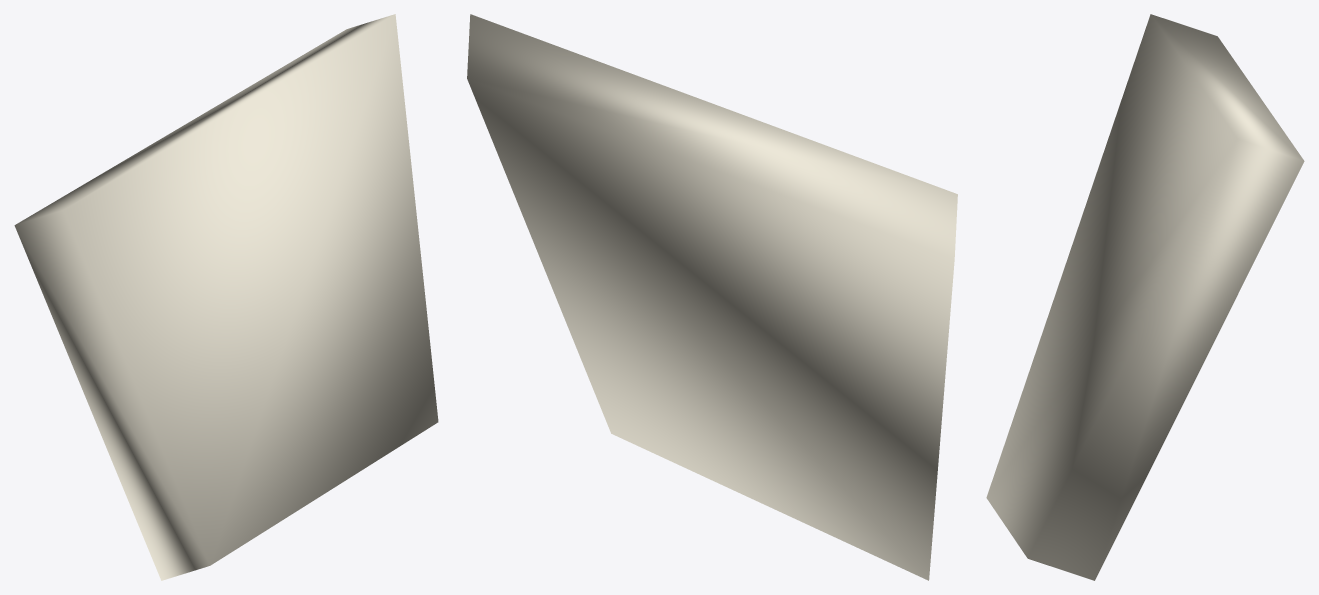
3 renders of one model, left to right at view 1: azimuth 30°, elevation 25°; view 2: azimuth 150°, elevation 25°; view 3: azimuth 270°, elevation 25°, orthographic. The views are drawn at different scales.
Parts seen in each view (by area): view 1: ZA_5d442a13feaf8c5a; view 2: ZA_5d442a13feaf8c5a; view 3: ZA_5d442a13feaf8c5a.
Part boxes in pixels (x1,y1,x2,y2): ZA_5d442a13feaf8c5a: (14, 14, 438, 580); ZA_5d442a13feaf8c5a: (467, 14, 957, 580); ZA_5d442a13feaf8c5a: (986, 14, 1304, 580).
Size of the model in its own units: 0.00482 by 0.00523 by 0.00262.
